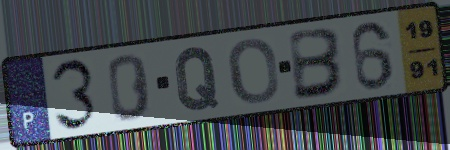0: (106, 51, 151, 125)
3: (45, 57, 100, 133)
6: (351, 18, 396, 93)
B: (288, 26, 348, 103)
O: (225, 36, 281, 107)
Q: (173, 45, 221, 114)
